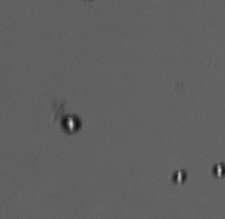Living Cell: (58, 112, 80, 137), (171, 168, 187, 185), (209, 161, 223, 179)
